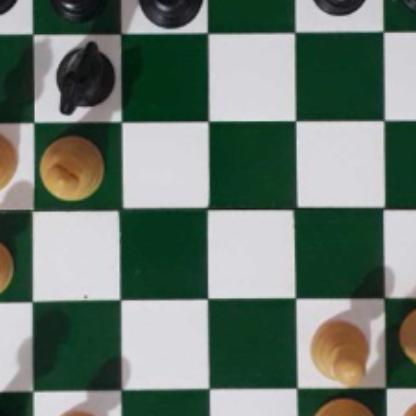black-bishop: (134, 0, 206, 31)
black-knight: (51, 38, 116, 118)
black-pawn: (47, 0, 107, 20), (309, 0, 369, 14), (0, 0, 18, 16), (394, 0, 416, 12)
black-queen: (0, 402, 22, 416)
white-bishop: (36, 132, 107, 202), (0, 129, 18, 197)
white-king: (306, 396, 387, 416)
white-knight: (402, 304, 416, 378)
white-pawn: (306, 315, 374, 385), (0, 234, 16, 300), (44, 407, 108, 416), (394, 402, 416, 416)
